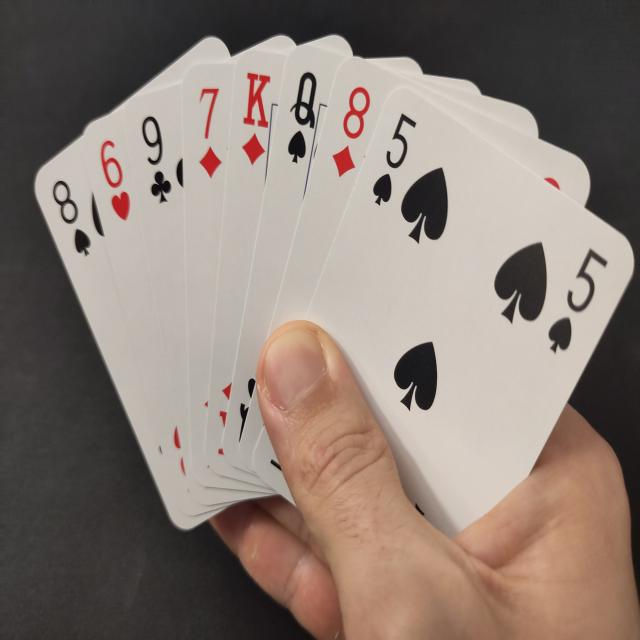5s: (546, 242, 614, 362), (369, 110, 420, 210)
6h: (97, 134, 139, 230)
7d: (197, 82, 225, 190)
8d: (328, 80, 373, 184)
8s: (51, 176, 96, 265)
9c: (138, 110, 176, 211)
Kd: (240, 61, 271, 181)
Qs: (286, 66, 318, 176)
